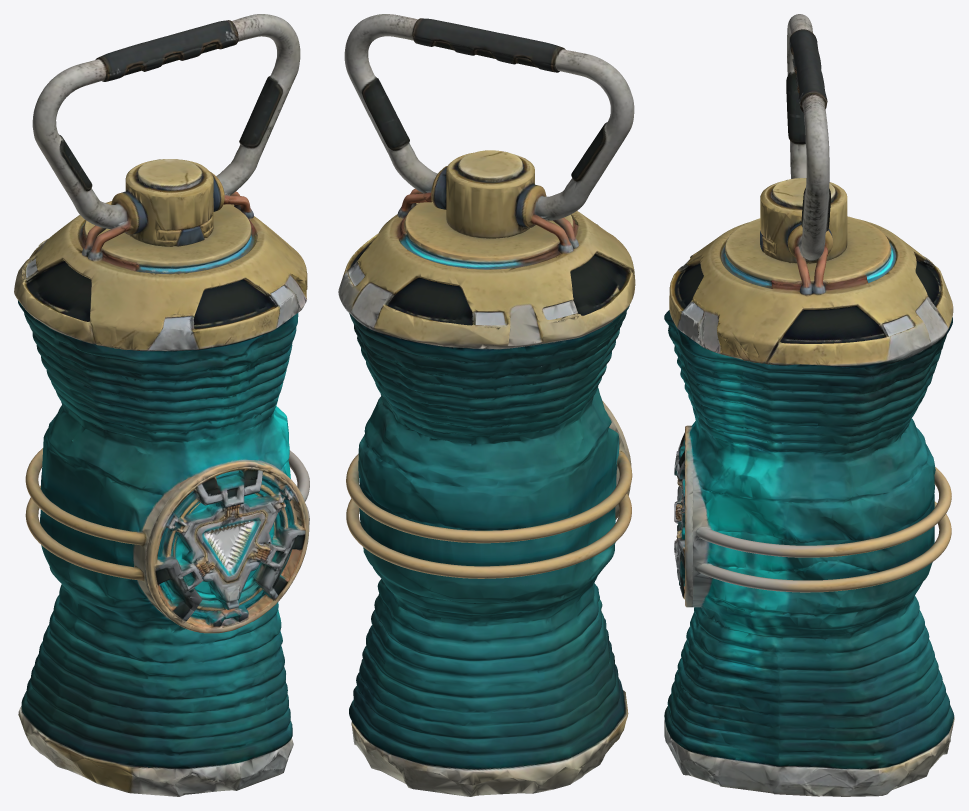
Rendered from core-opt2.glb.
The picture shows the model from 3 angles, left to right: view 1: azimuth 30°, elevation 25°; view 2: azimuth 150°, elevation 25°; view 3: azimuth 270°, elevation 25°; orthographic projection. The views are drawn at different scales.
Visible parts, largest first — view 1: tripo_node_077a27fa-6e64-4bd8-aa84-e6dd3af75b1d; view 2: tripo_node_077a27fa-6e64-4bd8-aa84-e6dd3af75b1d; view 3: tripo_node_077a27fa-6e64-4bd8-aa84-e6dd3af75b1d.
Part boxes in pixels (x1,y1,x2,y2): tripo_node_077a27fa-6e64-4bd8-aa84-e6dd3af75b1d: (14,14,309,796); tripo_node_077a27fa-6e64-4bd8-aa84-e6dd3af75b1d: (338,14,635,796); tripo_node_077a27fa-6e64-4bd8-aa84-e6dd3af75b1d: (664,14,954,796).
Size of the model in its own units: 0.4007 by 0.9792 by 0.3738.
Materials: 1 (1 with a texture image).
